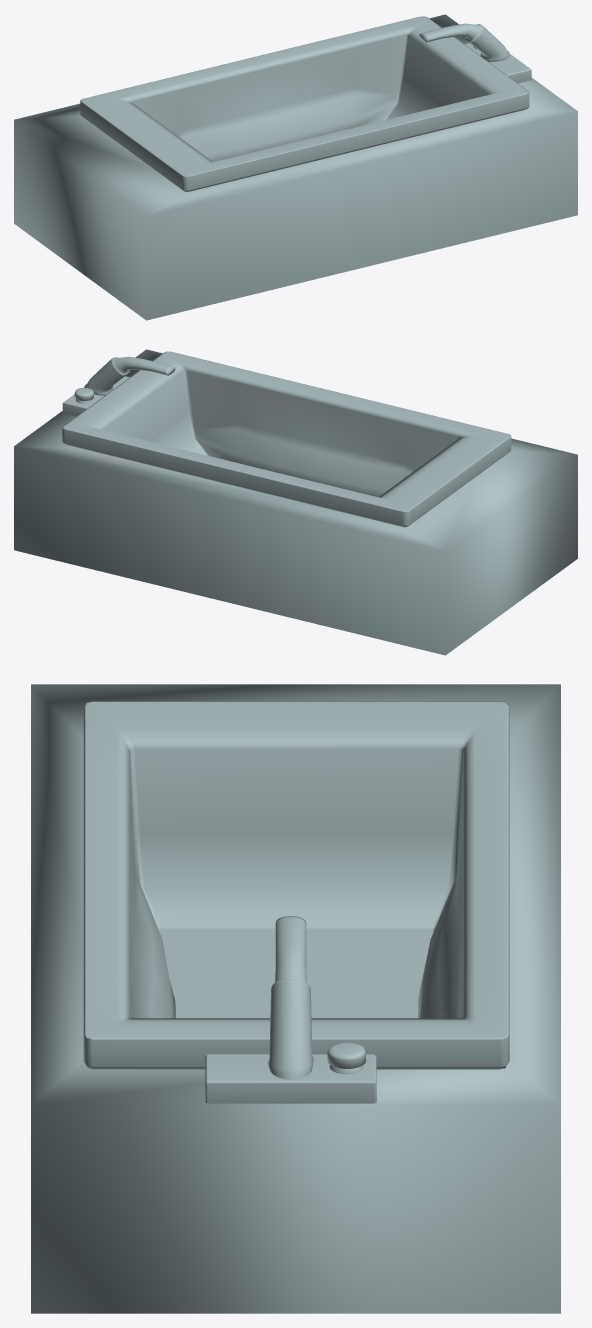
The model's file is bathtub.fbx.
The picture shows the model from 3 angles, top to bottom: view 1: azimuth 30°, elevation 25°; view 2: azimuth 150°, elevation 25°; view 3: azimuth 270°, elevation 25°; orthographic projection. The views are drawn at different scales.
Visible parts, largest first — view 1: polySurface127; view 2: polySurface127; view 3: polySurface127.
Boxes of the visible parts, x1=… form: polySurface127: x1=14, y1=14, x2=577, y2=320; polySurface127: x1=14, y1=349, x2=577, y2=655; polySurface127: x1=31, y1=684, x2=560, y2=1313.
Bounding box in the file's own units: 2.32 × 0.7995 × 1.23.
